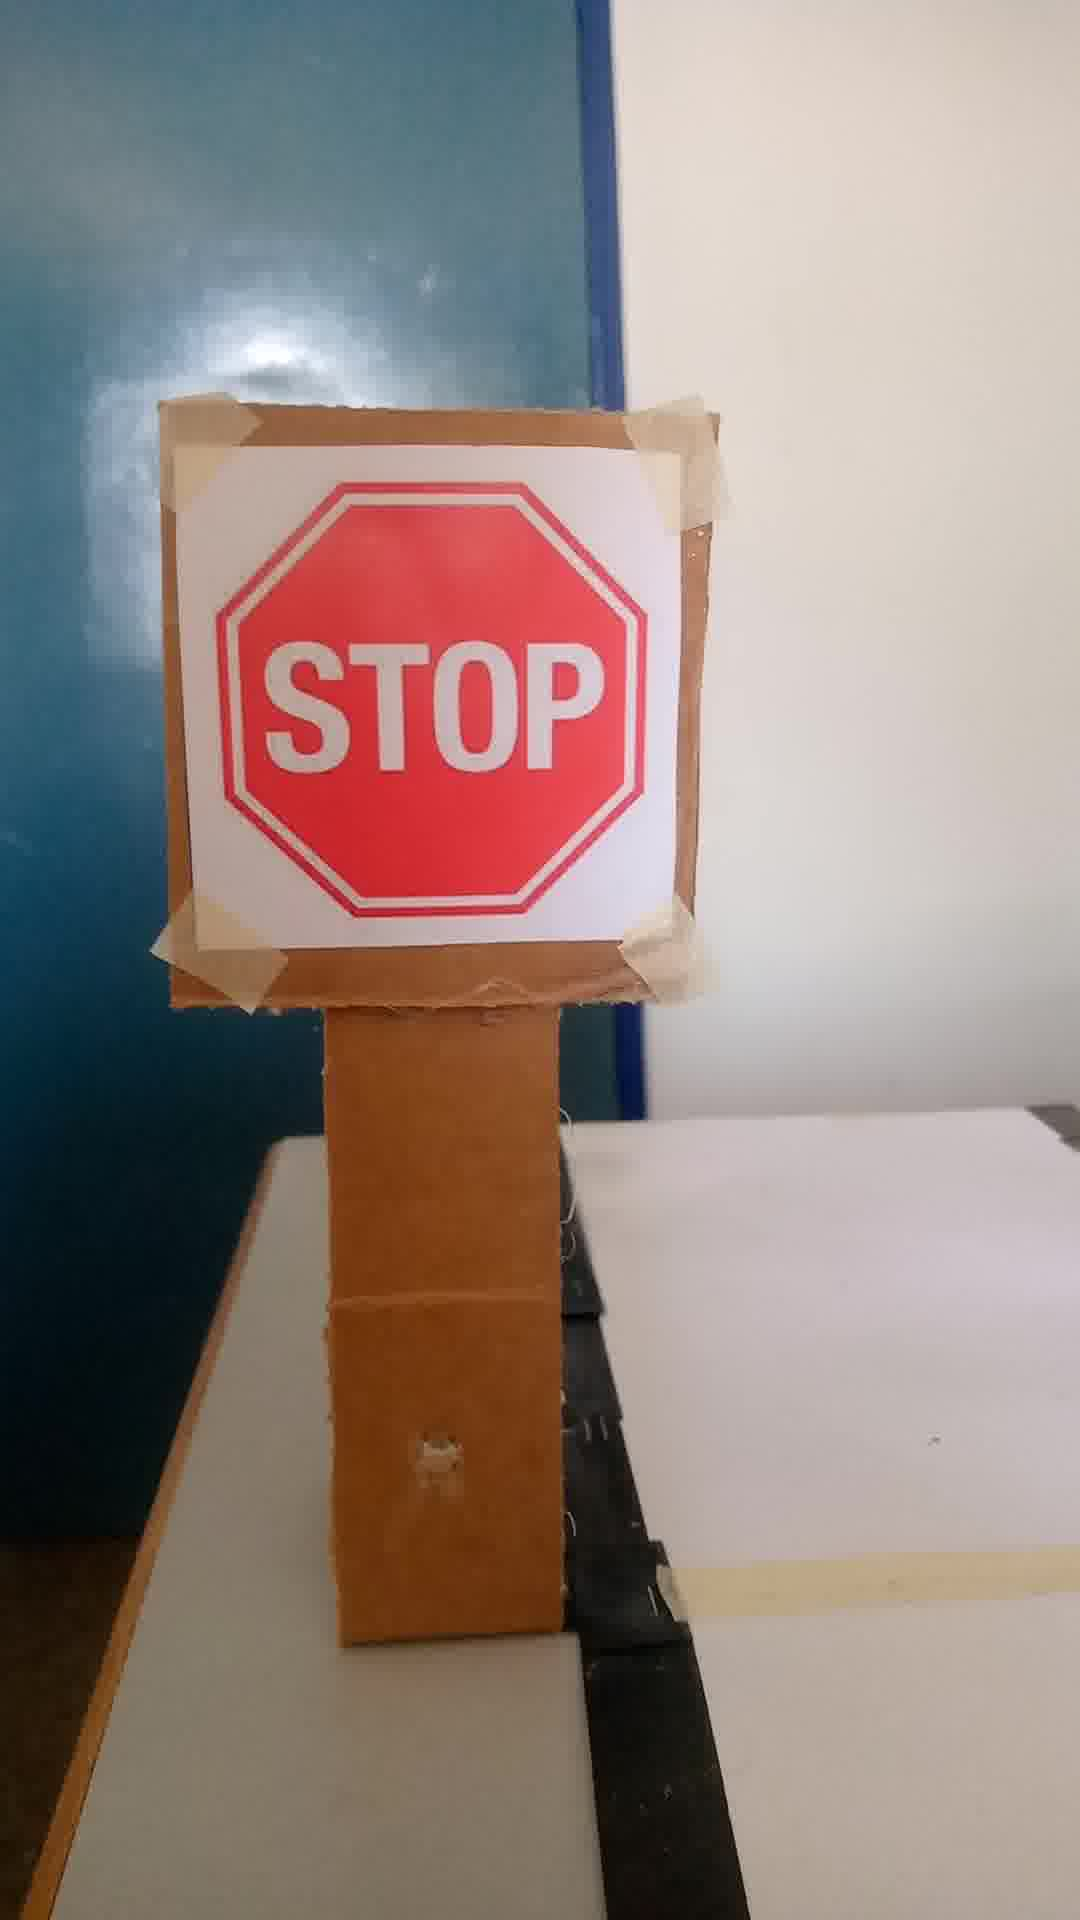panel101: (156, 411, 694, 957)
